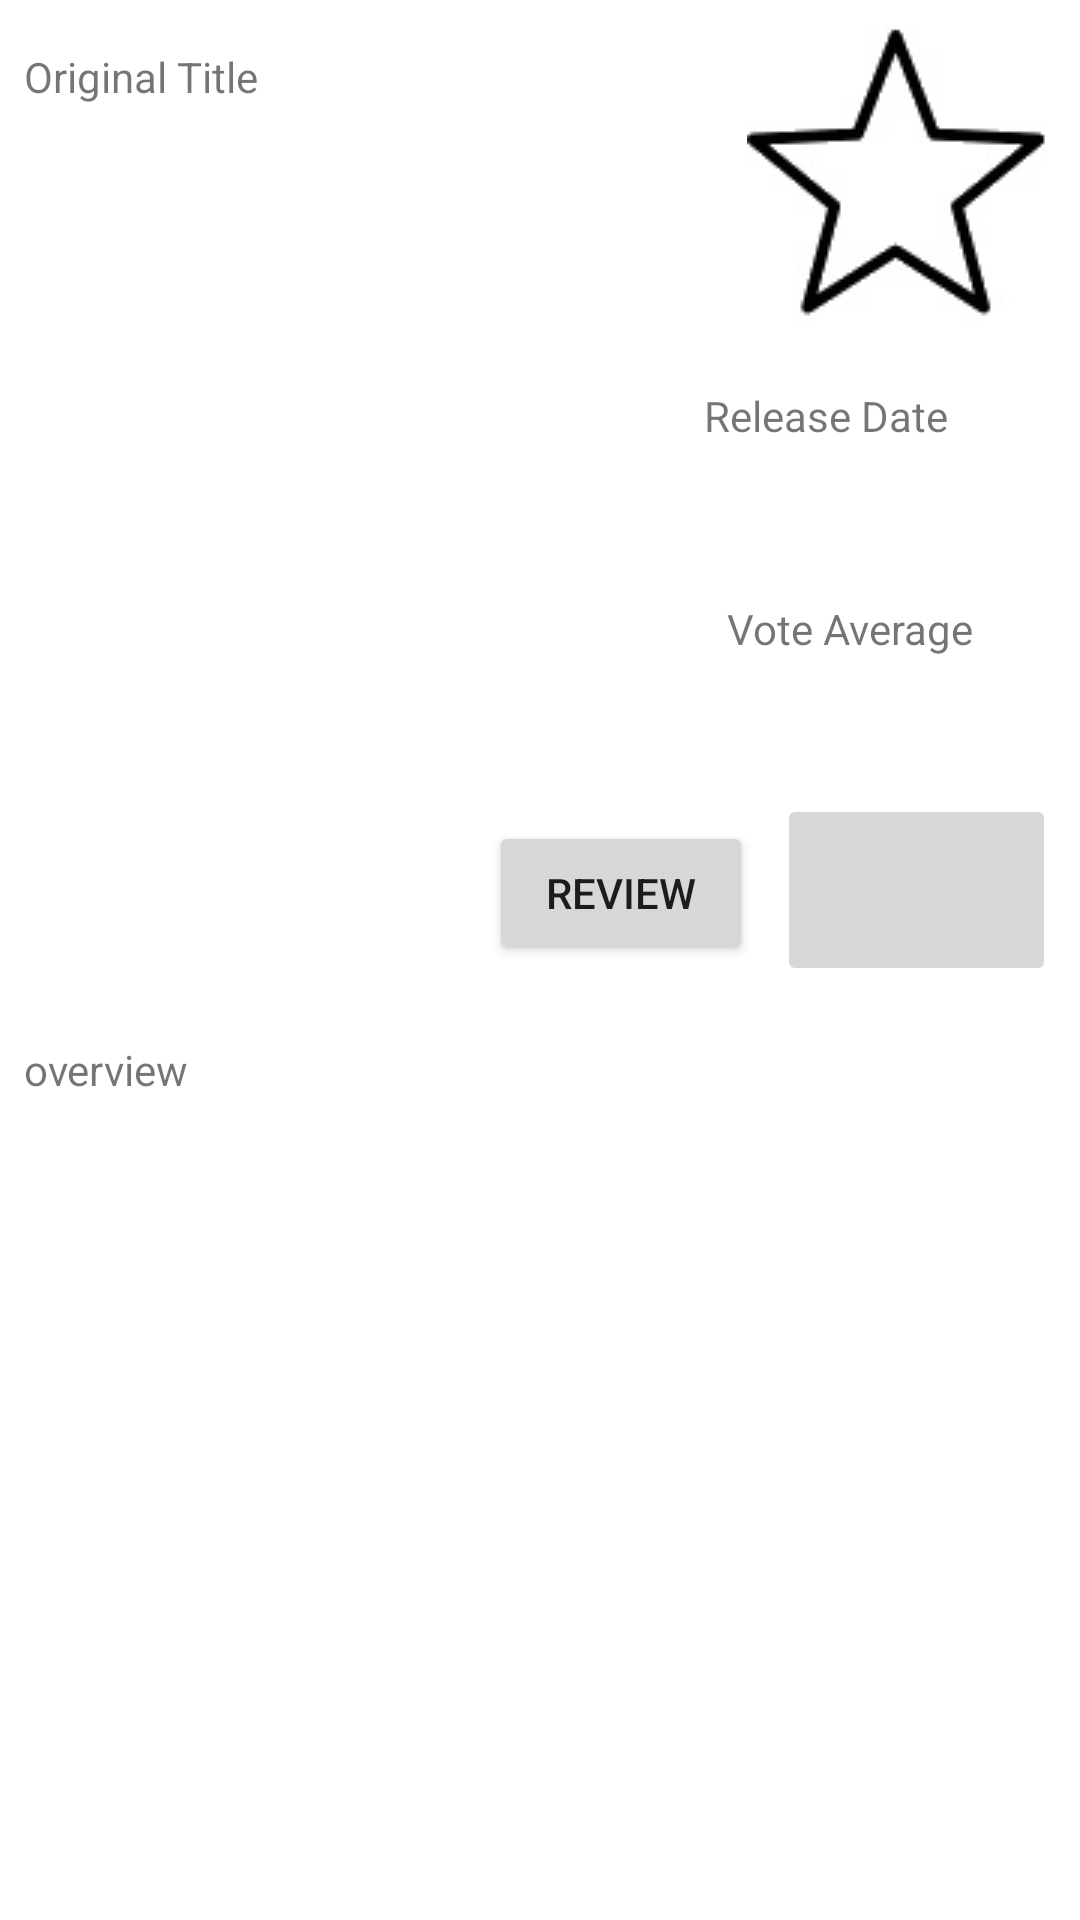

Icon click points for this 1080px x 1920px phone screenshot, format (x=x, y=y):
favorite: (x=896, y=172)
